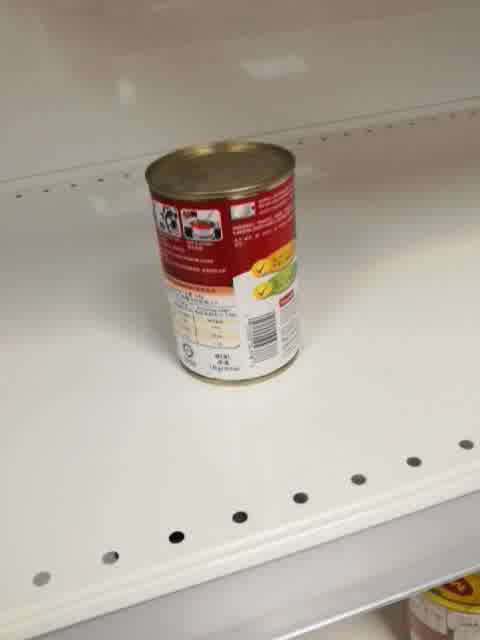tomatosoup: (142, 138, 301, 388)
